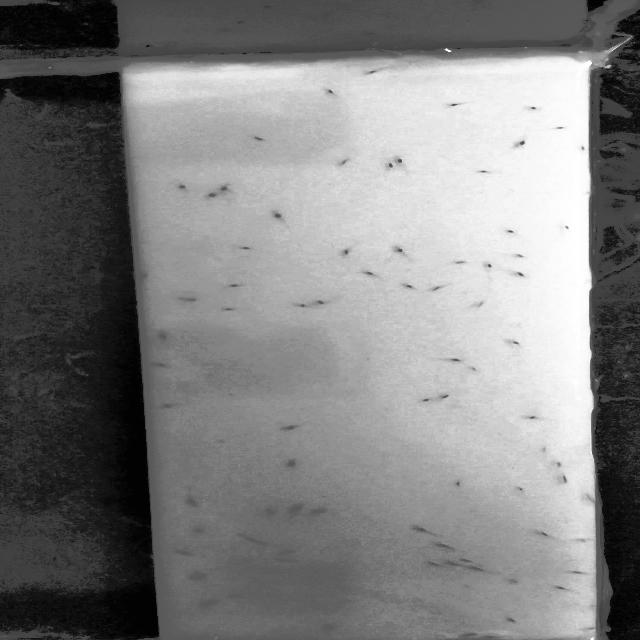shrimp: (237, 532, 276, 552), (356, 64, 395, 79), (511, 138, 536, 160), (156, 396, 193, 410), (444, 96, 481, 110), (391, 156, 416, 175), (328, 154, 352, 170), (283, 419, 311, 432), (518, 101, 544, 115), (272, 209, 290, 228), (212, 181, 238, 194), (545, 123, 573, 135), (174, 181, 199, 194), (247, 134, 274, 146), (440, 558, 466, 570), (457, 628, 485, 638), (336, 246, 359, 258), (307, 506, 334, 516), (139, 360, 172, 368), (528, 527, 552, 538), (189, 569, 212, 580), (415, 526, 440, 536), (273, 556, 297, 566), (378, 160, 396, 173), (324, 88, 342, 101), (220, 307, 253, 314), (312, 298, 333, 309), (426, 560, 449, 570), (226, 590, 251, 599), (550, 582, 575, 591), (271, 548, 299, 556), (231, 245, 263, 252), (205, 192, 222, 205), (287, 506, 314, 514), (196, 600, 222, 608), (505, 613, 521, 626), (511, 270, 528, 282), (433, 543, 455, 552), (551, 458, 566, 471), (432, 285, 456, 293), (260, 506, 279, 516), (431, 393, 452, 402), (520, 413, 541, 422), (225, 284, 256, 290), (475, 168, 498, 176), (457, 556, 475, 566), (416, 394, 434, 404), (571, 564, 586, 576), (447, 356, 464, 366), (359, 268, 380, 276), (134, 271, 154, 279), (556, 474, 569, 486), (481, 261, 495, 272), (479, 297, 493, 308), (396, 282, 415, 290), (296, 302, 311, 312), (449, 260, 474, 266), (479, 635, 508, 640), (506, 228, 524, 236), (472, 564, 485, 575), (466, 364, 480, 374), (539, 444, 553, 454), (389, 245, 406, 253), (192, 526, 208, 534), (175, 550, 196, 556), (514, 483, 528, 492), (146, 334, 170, 339), (171, 298, 201, 302), (559, 224, 574, 232), (513, 252, 528, 260), (452, 480, 467, 488), (321, 623, 335, 631), (574, 146, 588, 154), (283, 461, 301, 467), (187, 500, 202, 506), (511, 339, 521, 347)
